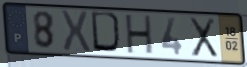4: (160, 16, 185, 58)
8: (30, 10, 56, 51)
D: (89, 9, 125, 56)
H: (124, 14, 155, 57)
X: (58, 8, 93, 54), (187, 16, 220, 60)
